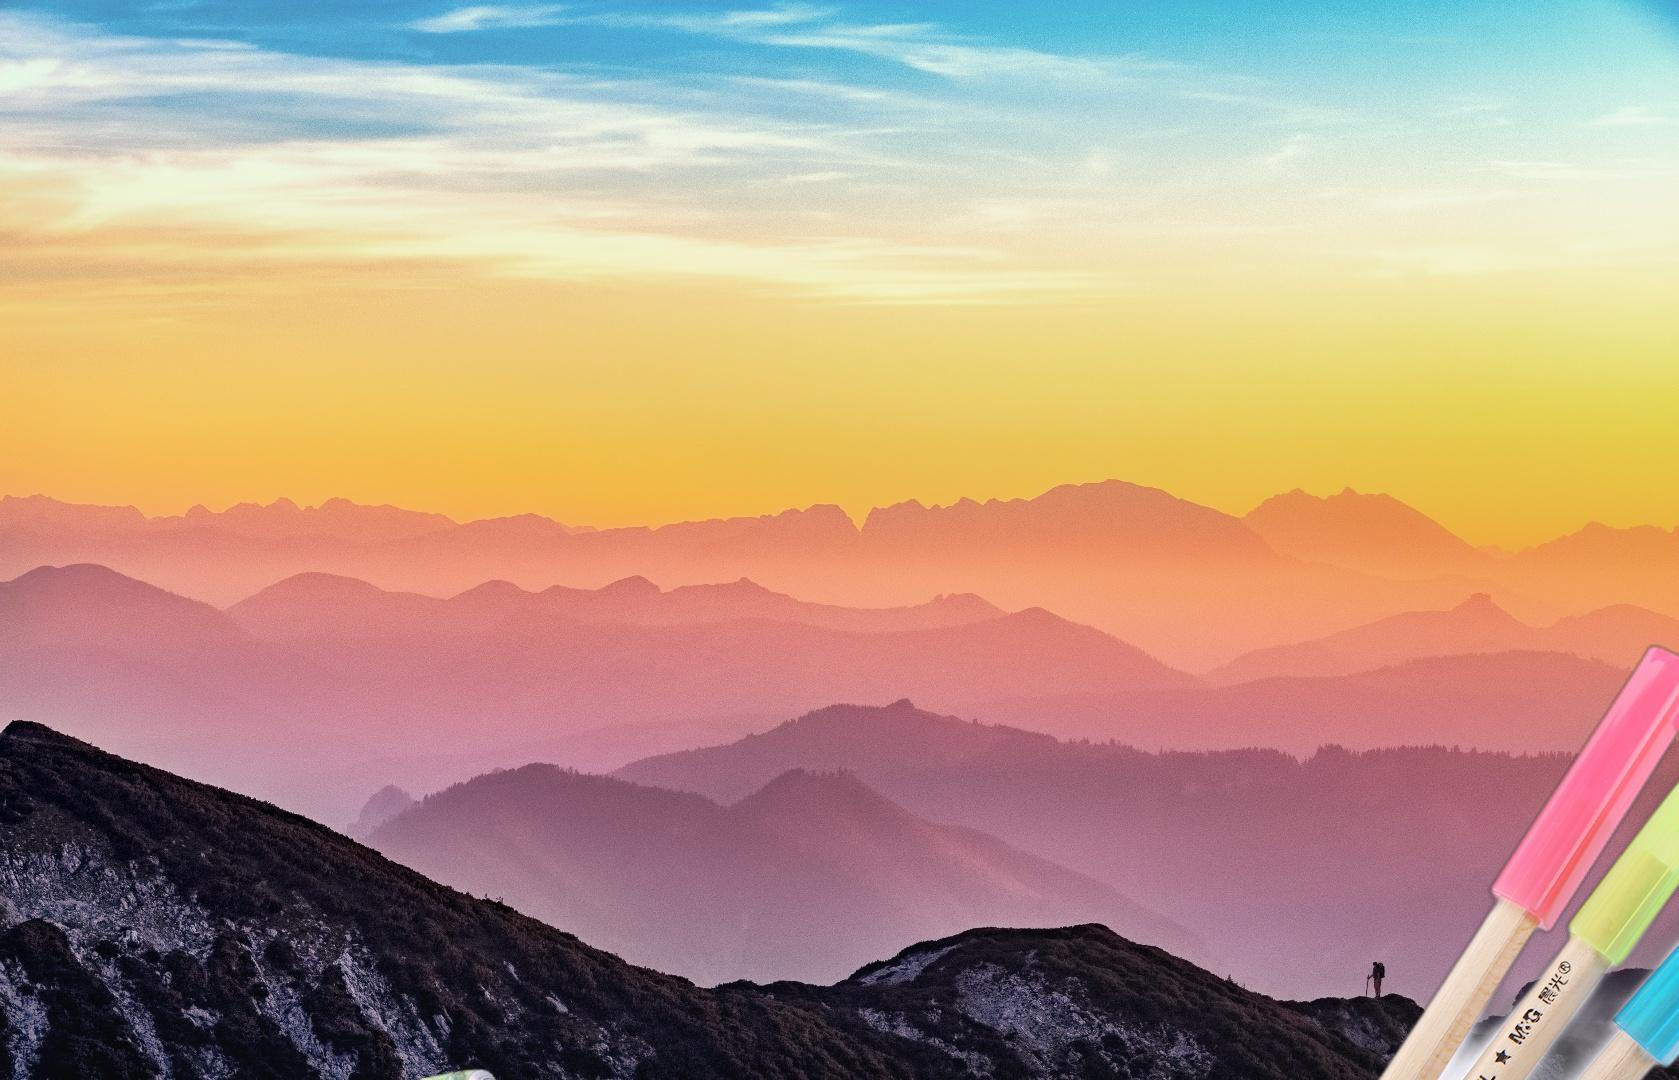metal-cans: (398, 1062, 810, 1080)
penholder: (1312, 638, 1679, 1080)
